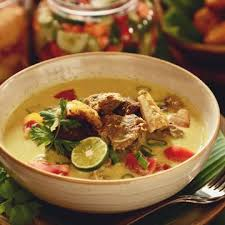soto: (1, 54, 215, 207)
